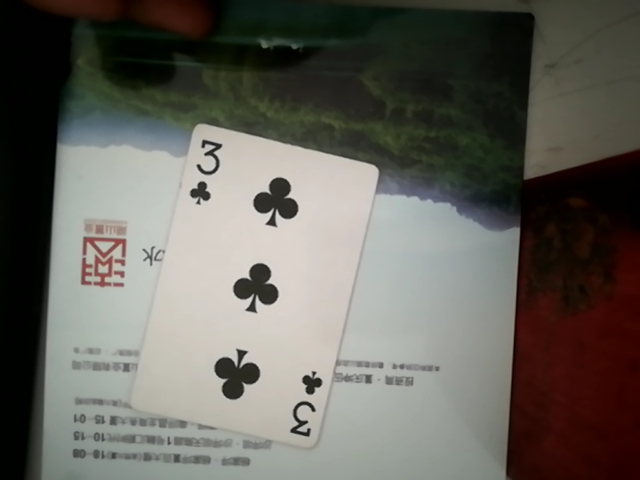mh 3: (143, 115, 374, 450)
